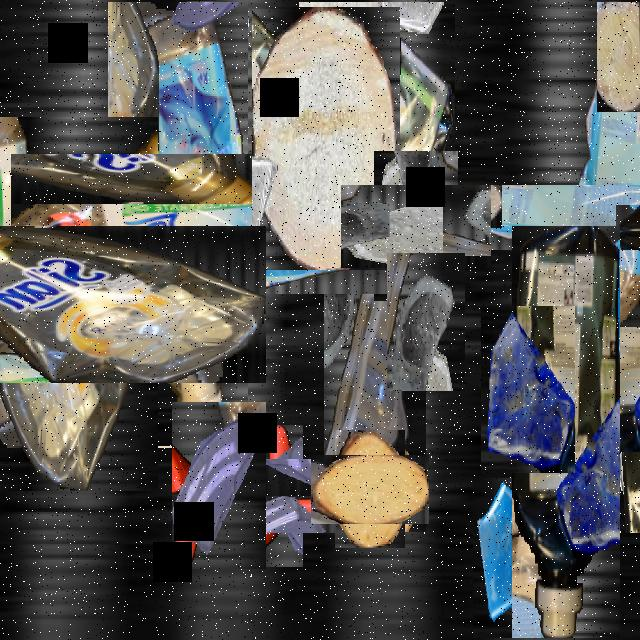glass: (172, 402, 266, 569), (481, 306, 575, 473), (473, 478, 563, 638), (358, 168, 474, 284), (387, 253, 465, 391)
metal: (186, 2, 248, 112), (602, 448, 640, 533)
plastic: (32, 78, 324, 370), (0, 171, 212, 436), (512, 226, 620, 638), (101, 164, 235, 448), (299, 2, 455, 183), (324, 279, 426, 532), (513, 123, 640, 310), (212, 442, 320, 550), (570, 327, 640, 452), (0, 148, 11, 304)
wood: (252, 7, 400, 270), (323, 442, 417, 536), (597, 2, 640, 112)
